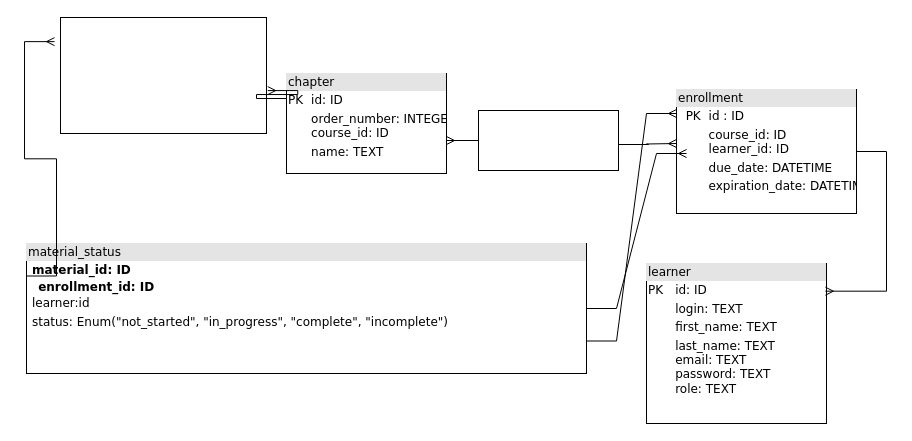
The diagram is 912 pixels wide and 441 high, and some of its shapes have lost their labels. Here are the shapes that lost their labels. From the top down, the centre of each, then its label:
the point at 163,75: material PK id: ID order_number: INTEGER chapter_id: ID name: TEXT
the point at 548,140: course PK id: ID name: TEXT
